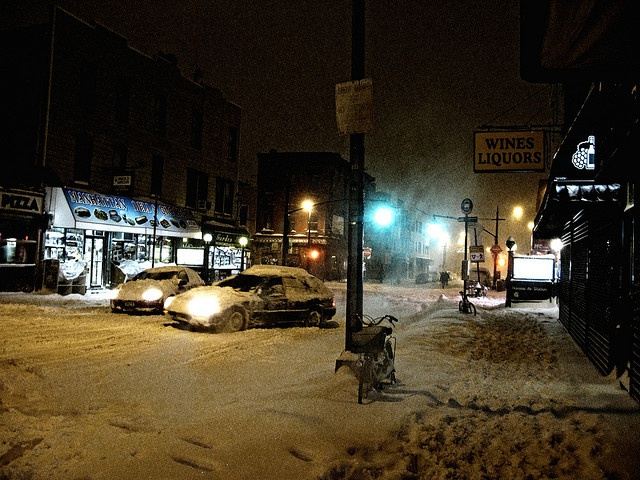non-vehicle: (345, 313, 397, 403), (457, 291, 476, 316)
